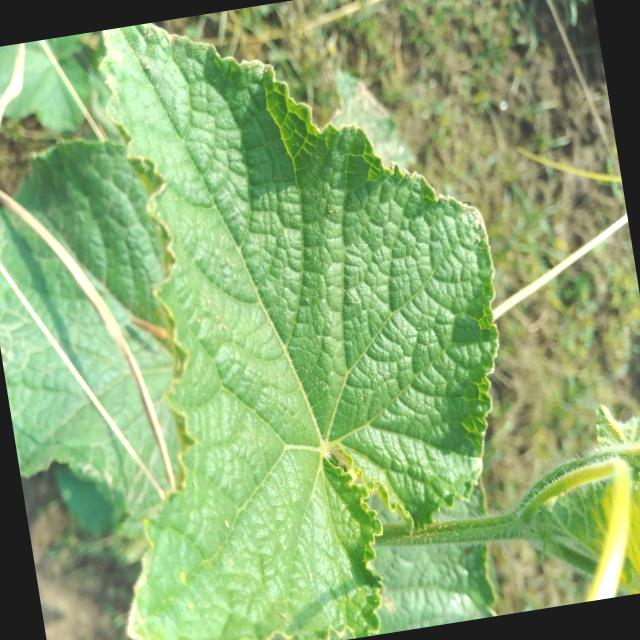cucumber_healthy: (29, 0, 555, 640), (0, 115, 206, 548), (0, 30, 115, 150)
